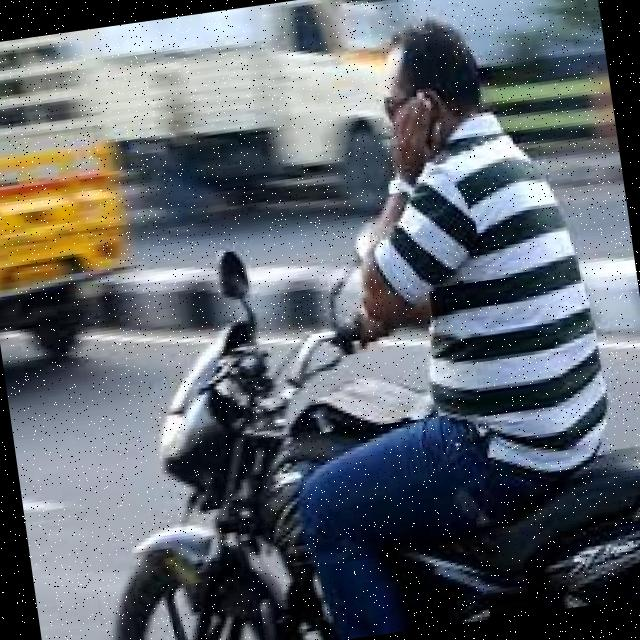Using mobile: (320, 2, 553, 285)
